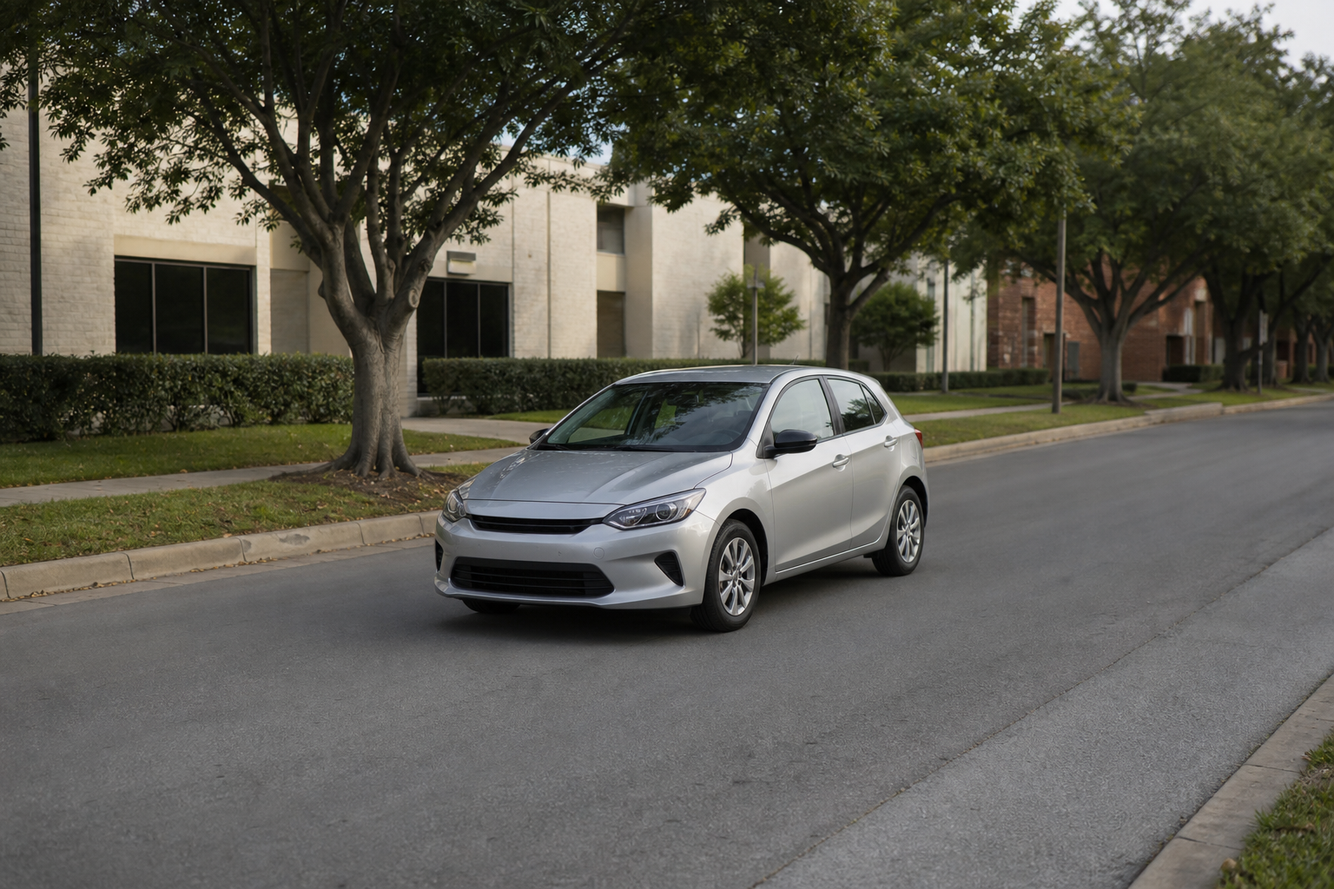car: (429, 362, 935, 636)
